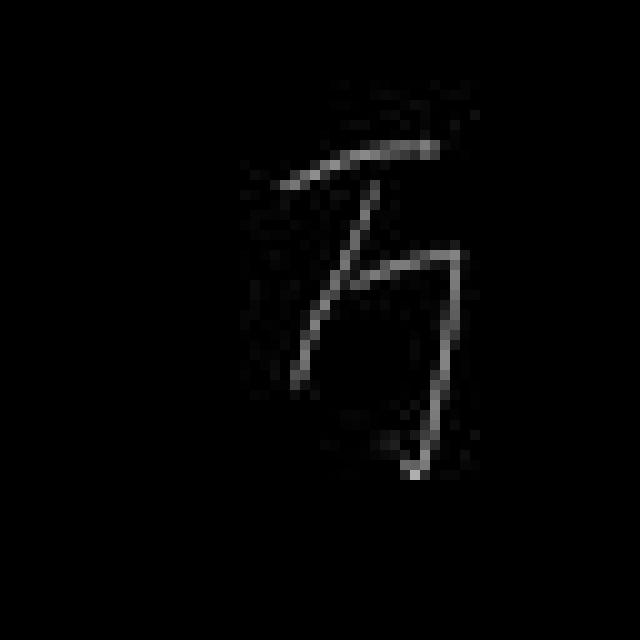10000 -a ten thousand-: (263, 120, 471, 494)
